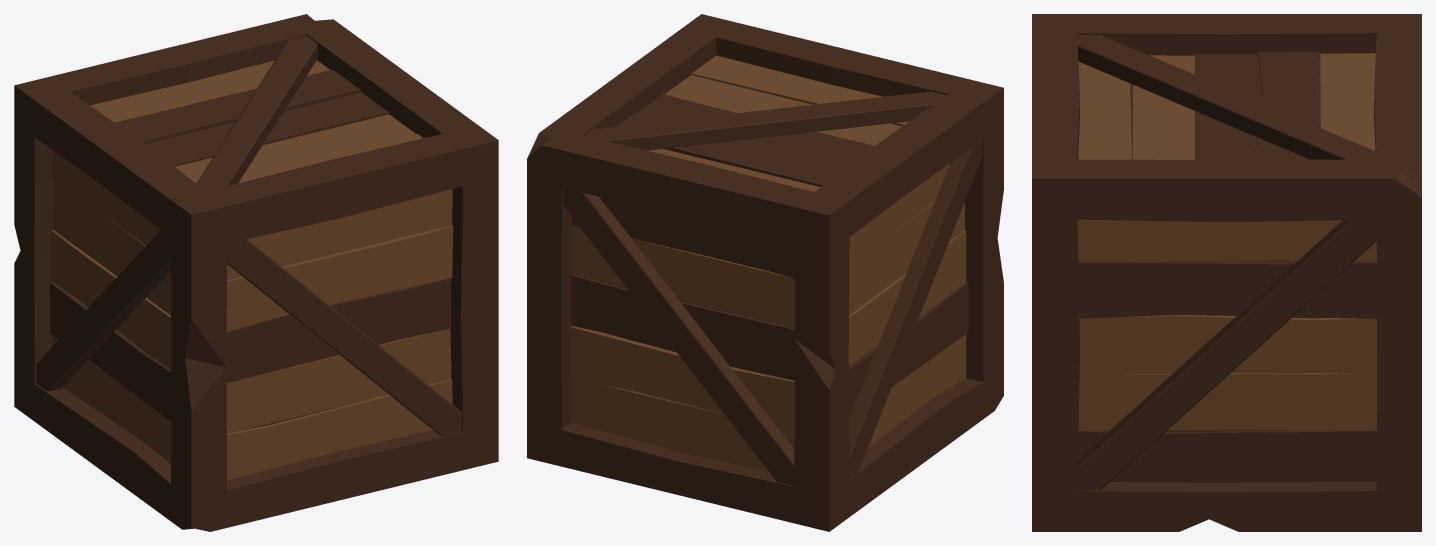
File: WoodenBox01.fbx
3 renders of one model, left to right at view 1: azimuth 30°, elevation 25°; view 2: azimuth 150°, elevation 25°; view 3: azimuth 270°, elevation 25°, orthographic. The views are drawn at different scales.
Parts seen in each view (by area): view 1: SM_Wooden_BoxA; view 2: SM_Wooden_BoxA; view 3: SM_Wooden_BoxA.
Part boxes in pixels (bbox=[...]): SM_Wooden_BoxA: bbox=[14, 14, 498, 531]; SM_Wooden_BoxA: bbox=[527, 14, 1003, 531]; SM_Wooden_BoxA: bbox=[1032, 14, 1421, 531].
Size of the model in its own units: 1 by 1 by 1.
